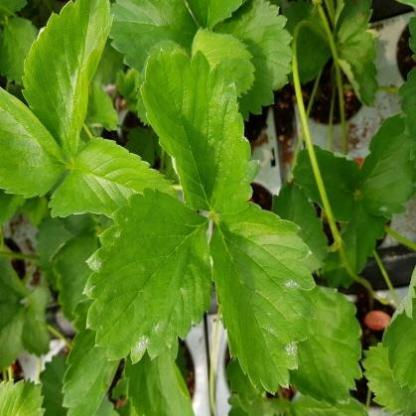Strawberry_Powdery_Mildew_Leaf: (82, 186, 214, 366), (207, 200, 318, 396), (139, 46, 262, 217), (20, 0, 116, 157)
